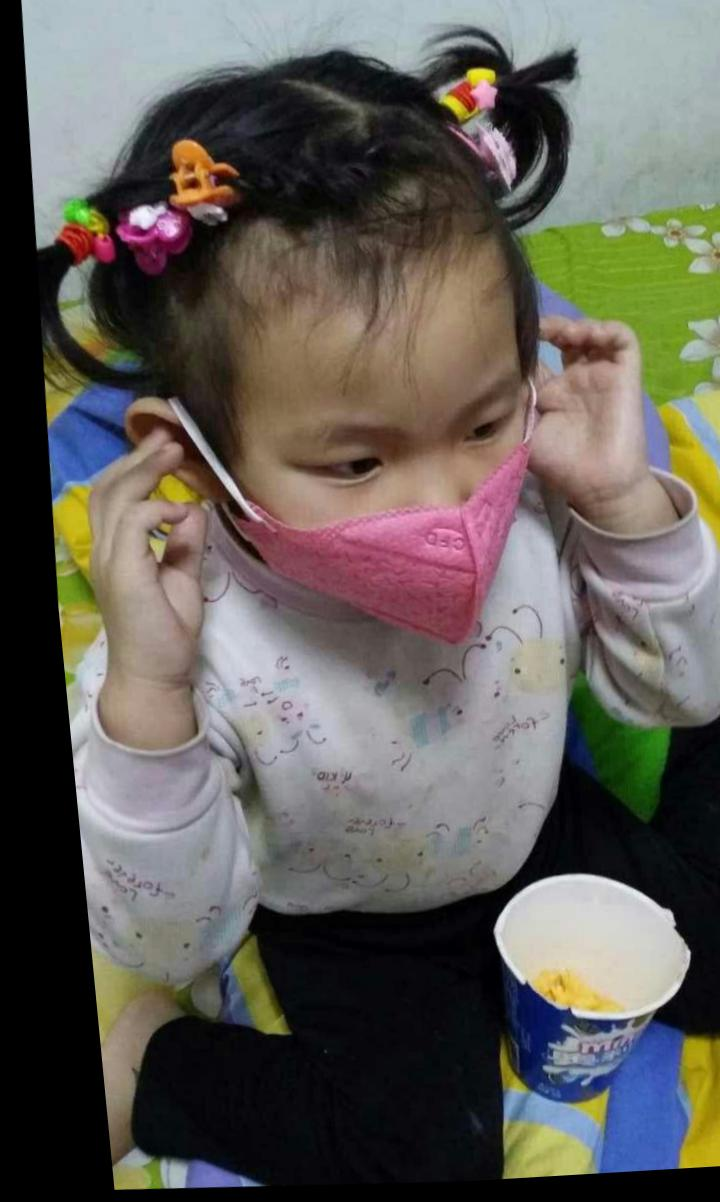WRONG: (224, 334, 534, 657)
